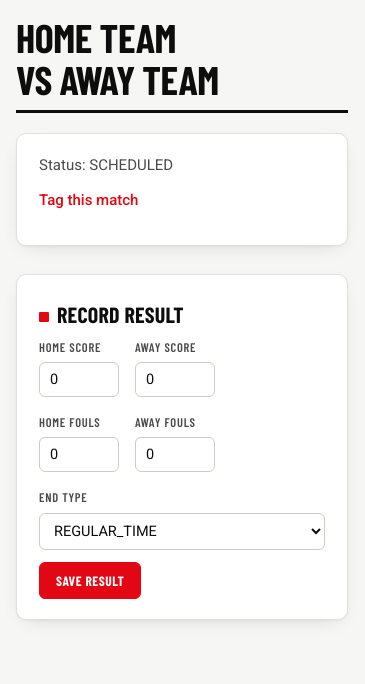
it: MatchDetailPage — record a result › submits a manual result and flips the match to PLAYED
Expected: the heading "Home Team vs Away Team" is shown, left=16, top=16, right=348, bottom=113
Expected: the text "Status: SCHEDULED" is shown, left=39, top=156, right=173, bottom=174
Replace the text in the number field labelled "Home score" with "21" at (79, 380), box left=39, top=362, right=119, bottom=397
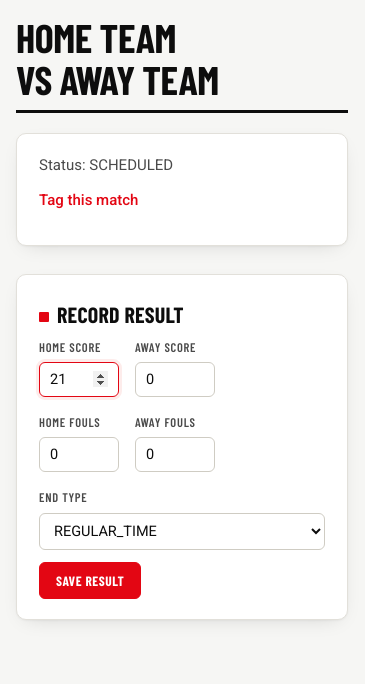
Replace the text in the number field labelled "Away score" with "18" at (175, 380), box left=135, top=362, right=215, bottom=397
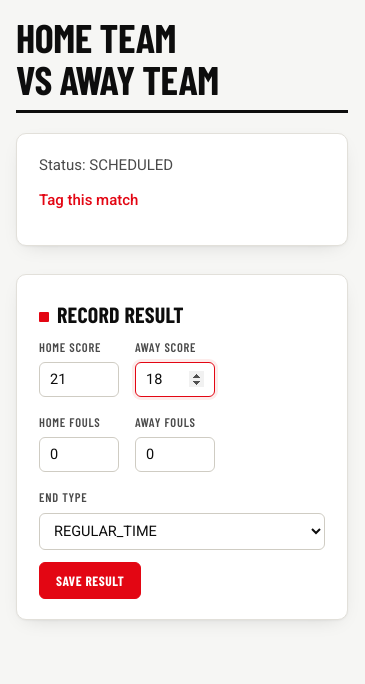
Click the button "Save result" at (90, 580), box left=39, top=562, right=141, bottom=599
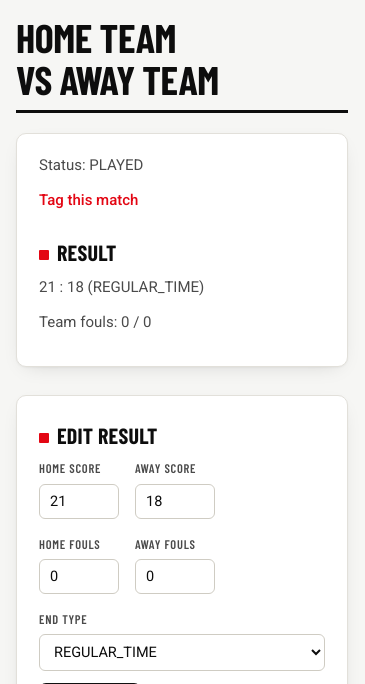
Expected: the text "Status: PLAYED" is shown, left=39, top=156, right=143, bottom=174
Expected: the text "21 : 18 (REGULAR_TIME)" is shown, left=39, top=278, right=204, bottom=296
